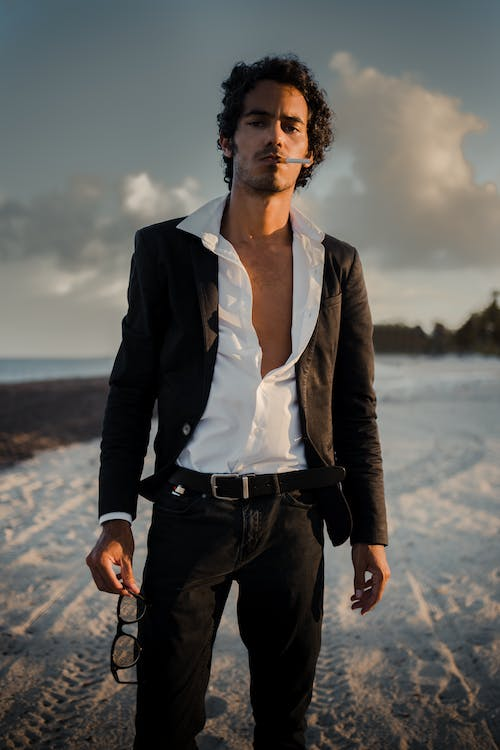cigarette: (276, 156, 315, 166)
